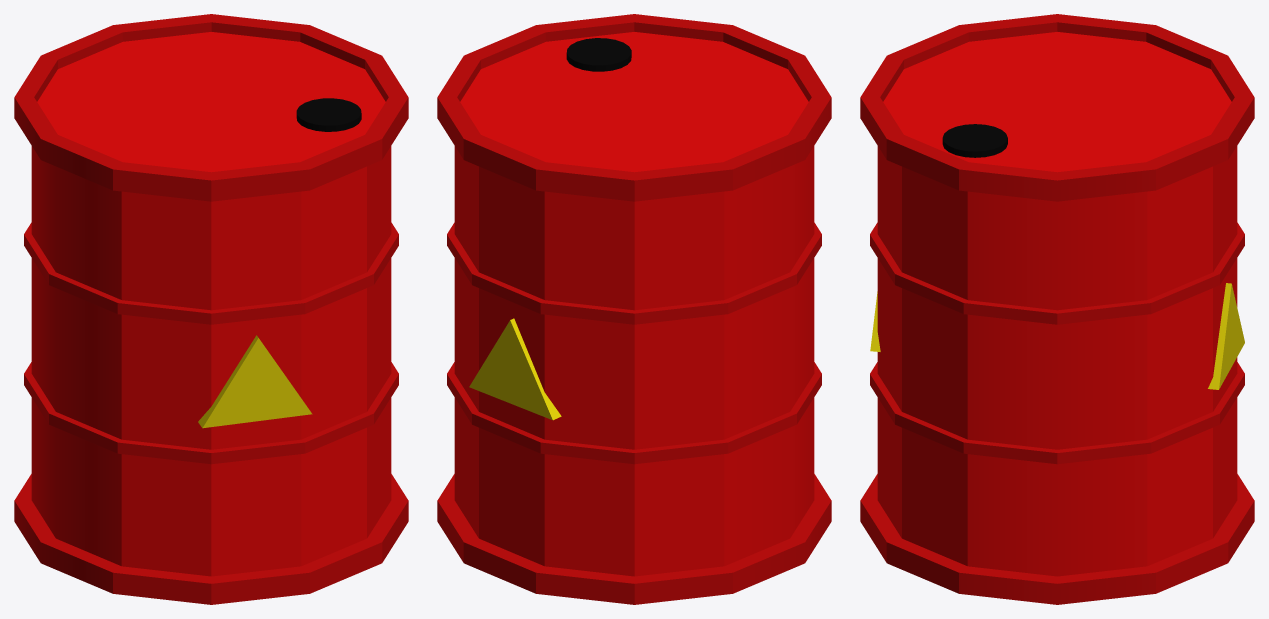
The model's file is explosiveBarrel.fbx.
3 views of the same model, side by side, from view 1: azimuth 30°, elevation 25°; view 2: azimuth 150°, elevation 25°; view 3: azimuth 270°, elevation 25° (orthographic).
Parts seen in each view (by area): view 1: explosiveBarrel; view 2: explosiveBarrel; view 3: explosiveBarrel.
Boxes of the visible parts, x1,y1,x2,y2 form: explosiveBarrel: (14, 14, 408, 604); explosiveBarrel: (437, 14, 831, 604); explosiveBarrel: (860, 14, 1254, 604).
Size of the model in its own units: 2.19 by 2.61 by 2.19.
